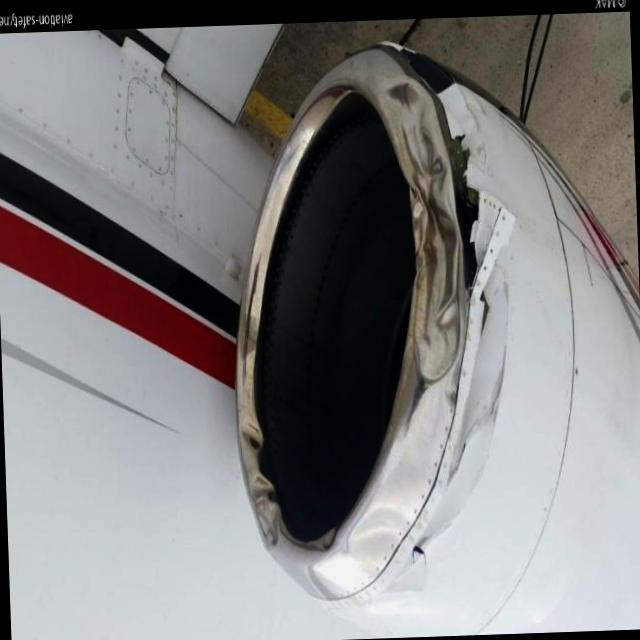dent: (384, 76, 468, 388), (234, 266, 278, 549), (352, 507, 406, 560)
